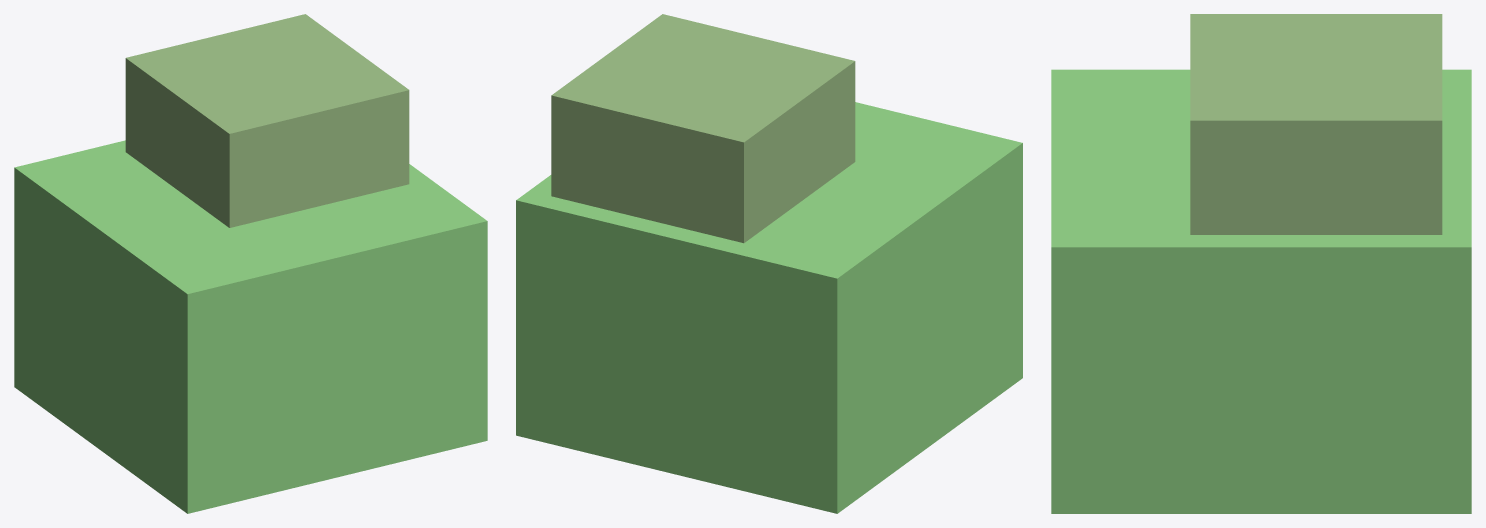
The model's file is Prop_Dress_AMF_Bush_V3.glb.
The picture shows the model from 3 angles, left to right: view 1: azimuth 30°, elevation 25°; view 2: azimuth 150°, elevation 25°; view 3: azimuth 270°, elevation 25°; orthographic projection. The views are drawn at different scales.
Parts seen in each view (by area): view 1: Prop_Dress_AMF_Bush_V3; view 2: Prop_Dress_AMF_Bush_V3; view 3: Prop_Dress_AMF_Bush_V3.
Part boxes in pixels (box(x1,y1,x2,y2)): Prop_Dress_AMF_Bush_V3: box(14, 14, 487, 513); Prop_Dress_AMF_Bush_V3: box(516, 14, 1022, 513); Prop_Dress_AMF_Bush_V3: box(1051, 14, 1471, 513).
Bounding box in the file's own units: 0.7663 × 0.7663 × 0.7663.
